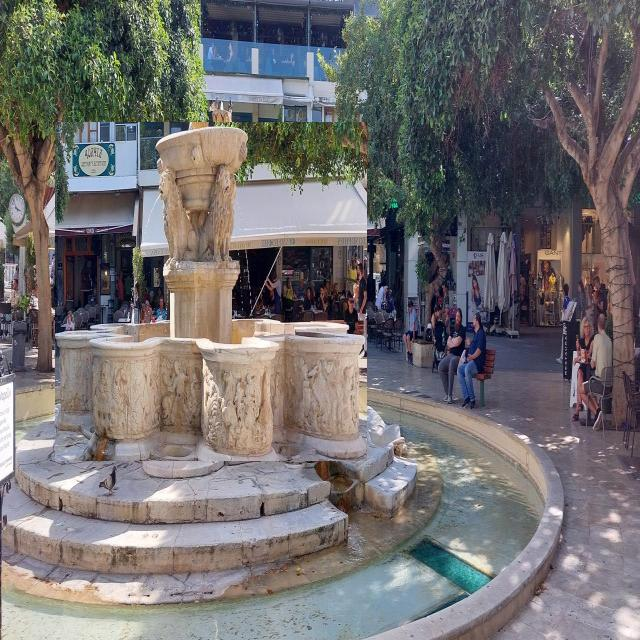Liontaria: (56, 123, 368, 462)
